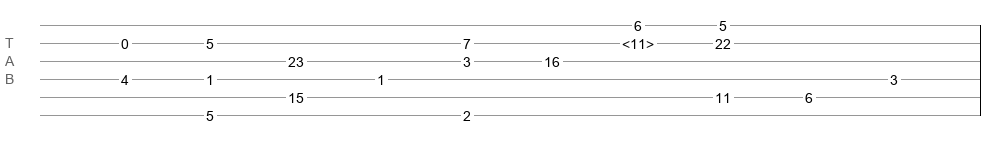0: (121, 36, 129, 46)
1: (206, 72, 214, 82), (377, 72, 385, 82)
11: (715, 90, 731, 100)
15: (288, 90, 304, 100)
16: (544, 54, 560, 64)
2: (463, 108, 471, 118)
22: (715, 36, 731, 46)
23: (288, 54, 304, 64)
3: (463, 54, 471, 64), (890, 72, 898, 82)
4: (121, 72, 129, 82)
5: (206, 108, 214, 118), (206, 36, 214, 46), (719, 18, 727, 28)
6: (634, 18, 642, 28), (805, 90, 813, 100)
7: (463, 36, 471, 46)
harmonic: (622, 36, 654, 46)
